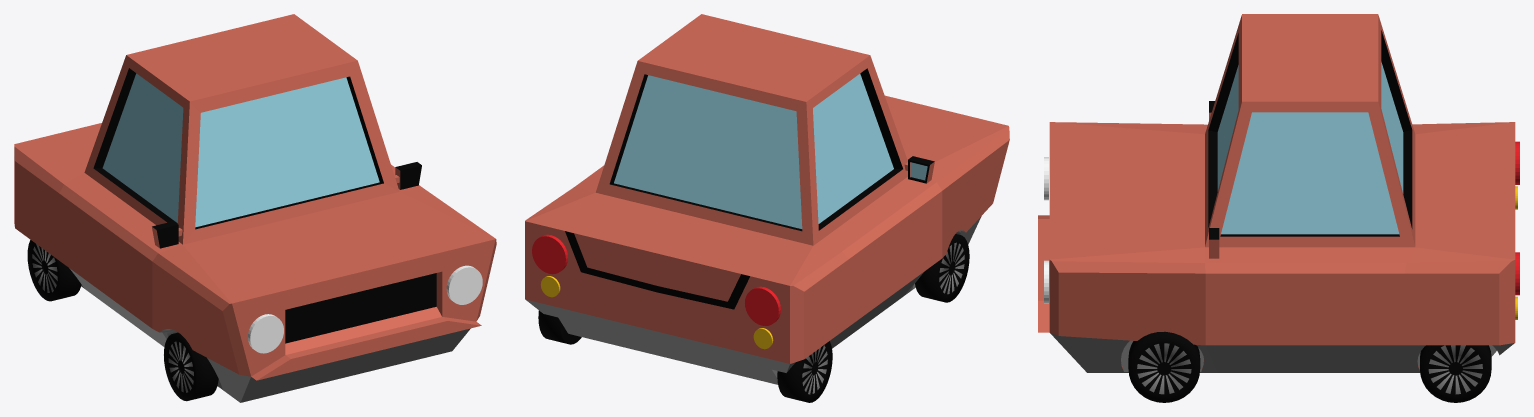
File: miniCar.fbx
3 renders of one model, left to right at view 1: azimuth 30°, elevation 25°; view 2: azimuth 150°, elevation 25°; view 3: azimuth 270°, elevation 25°, orthographic. The views are drawn at different scales.
Visible parts, largest first — view 1: Cube; view 2: Cube; view 3: Cube.
Part boxes in pixels (x1,y1,x2,y2): Cube: (14, 14, 496, 402); Cube: (525, 14, 1009, 402); Cube: (1038, 14, 1519, 402).
Size of the model in its own units: 195 by 175 by 275.
